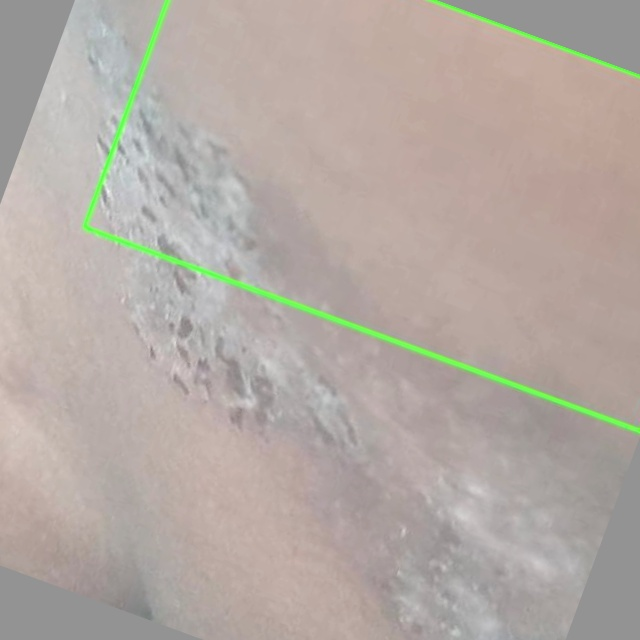Eczema: (82, 0, 639, 432)
